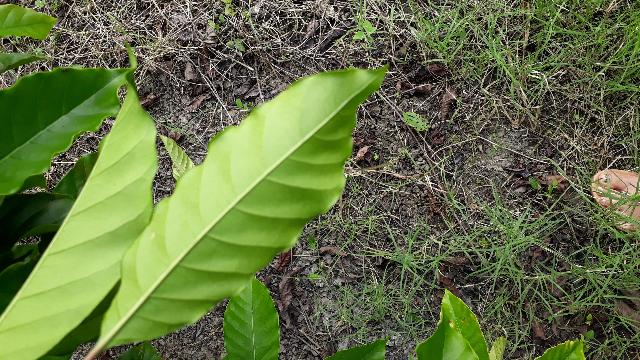healthy: (92, 60, 396, 356)
